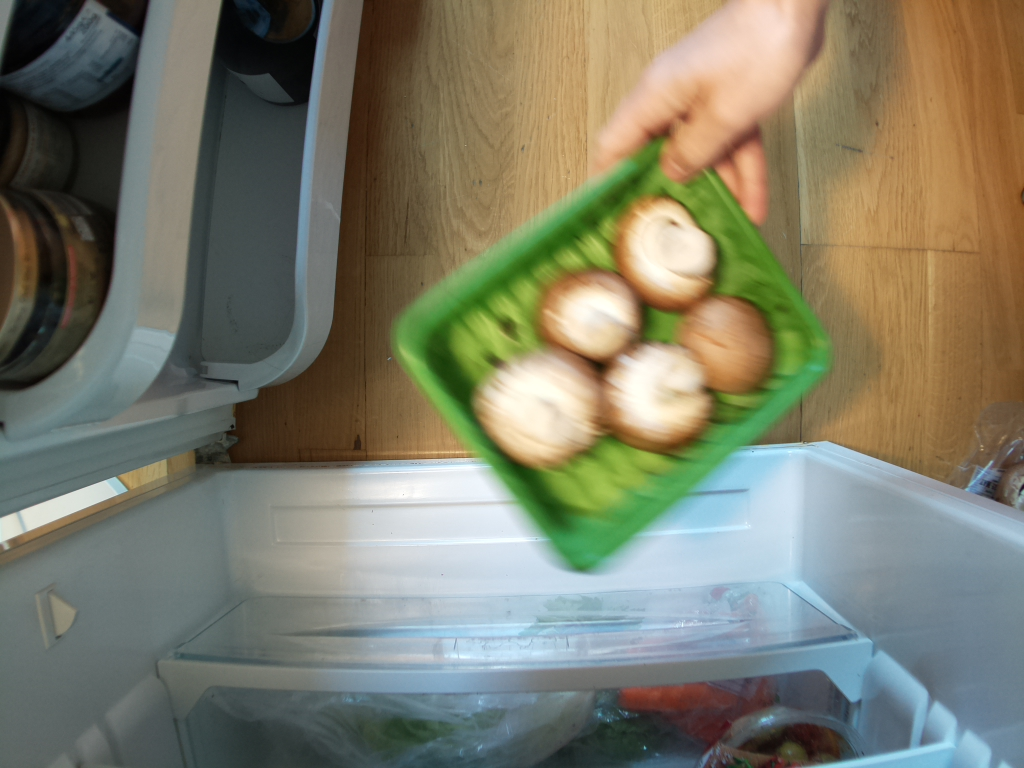mushrooms: (390, 137, 834, 572)
